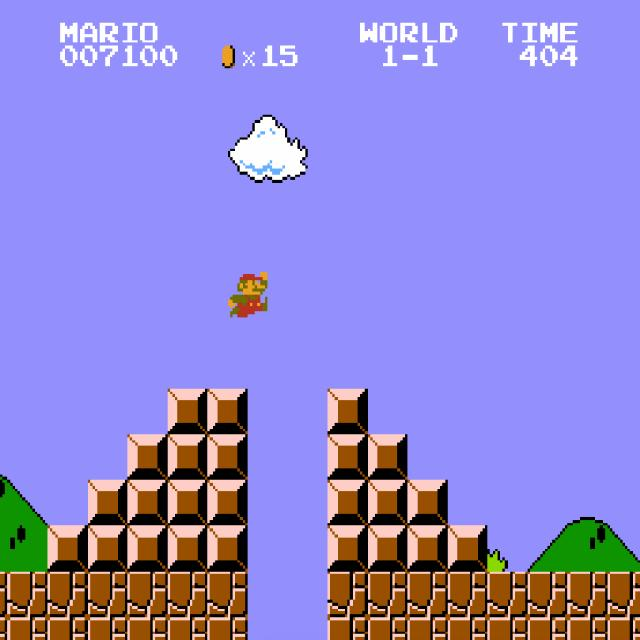hard_block: (87, 480, 128, 526), (127, 434, 168, 480), (127, 480, 168, 526), (167, 434, 208, 480), (167, 480, 208, 526), (207, 434, 248, 480), (207, 480, 248, 526), (327, 434, 368, 480), (327, 480, 368, 526), (367, 434, 408, 480), (367, 480, 408, 526), (407, 480, 448, 526), (47, 526, 88, 571), (87, 526, 128, 571), (127, 526, 168, 571), (167, 389, 208, 434), (167, 526, 208, 571), (207, 389, 248, 434), (207, 526, 248, 571), (327, 389, 368, 434), (327, 526, 368, 571), (367, 526, 408, 571), (407, 526, 448, 571), (447, 526, 488, 571)
little_mario: (225, 268, 268, 317)
undestructible_block: (7, 572, 48, 617), (47, 572, 88, 617), (87, 572, 128, 617), (127, 572, 168, 617), (167, 572, 208, 617), (207, 572, 248, 617), (327, 572, 368, 617), (367, 572, 408, 617), (407, 572, 448, 617), (447, 572, 488, 617), (487, 572, 528, 617), (527, 572, 568, 617), (567, 572, 608, 617), (607, 571, 640, 617), (7, 617, 48, 640), (47, 617, 88, 640), (87, 617, 128, 640), (127, 617, 168, 640), (167, 617, 208, 640), (207, 617, 248, 640), (327, 617, 368, 640), (367, 617, 408, 640), (407, 617, 448, 640), (447, 617, 488, 640), (487, 617, 528, 640), (527, 617, 568, 640), (567, 617, 608, 640), (607, 617, 640, 639), (0, 572, 7, 617), (0, 617, 7, 640)
